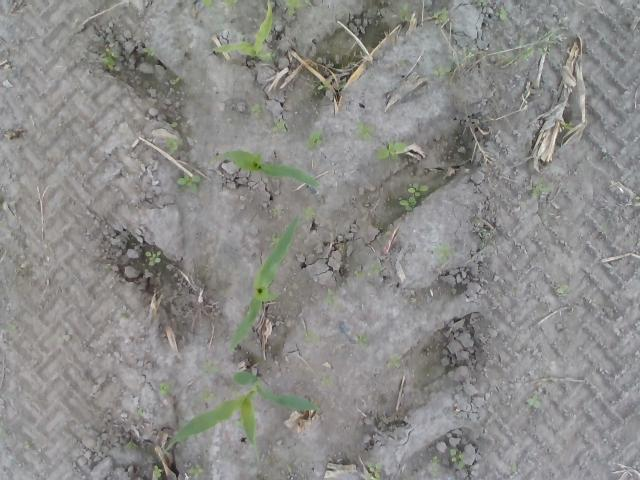Maize: (164, 368, 322, 454), (228, 215, 300, 351), (212, 149, 320, 189), (212, 0, 272, 63)
Weeds: (397, 182, 429, 212), (374, 138, 408, 161), (519, 35, 548, 60), (284, 0, 321, 16), (98, 46, 120, 72), (433, 244, 460, 264), (531, 176, 553, 200), (176, 174, 201, 193), (162, 136, 185, 155), (143, 250, 162, 272), (192, 390, 218, 406), (356, 120, 374, 140), (448, 446, 466, 466), (305, 132, 321, 152), (367, 462, 384, 480), (312, 79, 331, 95), (432, 64, 452, 79), (304, 328, 322, 344), (272, 118, 288, 136), (385, 352, 401, 370), (478, 227, 491, 248), (526, 394, 544, 409), (202, 360, 222, 373), (432, 7, 448, 23), (322, 286, 336, 304), (494, 6, 508, 24), (186, 466, 206, 478), (555, 283, 571, 298), (266, 231, 280, 248), (431, 455, 440, 480), (158, 382, 172, 398), (462, 46, 478, 60), (251, 102, 264, 118), (152, 463, 164, 480), (400, 2, 410, 22), (168, 113, 181, 128), (558, 121, 574, 133), (368, 263, 384, 275), (303, 208, 316, 221), (200, 0, 216, 10), (356, 334, 368, 346), (319, 376, 333, 386), (0, 423, 8, 440), (223, 0, 238, 9), (270, 207, 282, 218), (498, 56, 514, 64), (125, 440, 139, 449), (354, 270, 366, 280), (511, 462, 521, 474), (272, 50, 280, 63), (399, 55, 408, 66), (224, 31, 242, 36), (6, 323, 16, 332), (286, 463, 295, 473), (135, 407, 144, 417), (144, 48, 155, 56), (23, 440, 32, 449), (233, 420, 242, 429), (438, 176, 446, 186), (170, 77, 180, 85), (474, 0, 487, 6), (208, 34, 214, 46), (338, 78, 347, 86), (120, 312, 128, 320), (601, 223, 609, 230), (456, 64, 464, 70), (632, 240, 638, 246), (362, 77, 369, 80)
